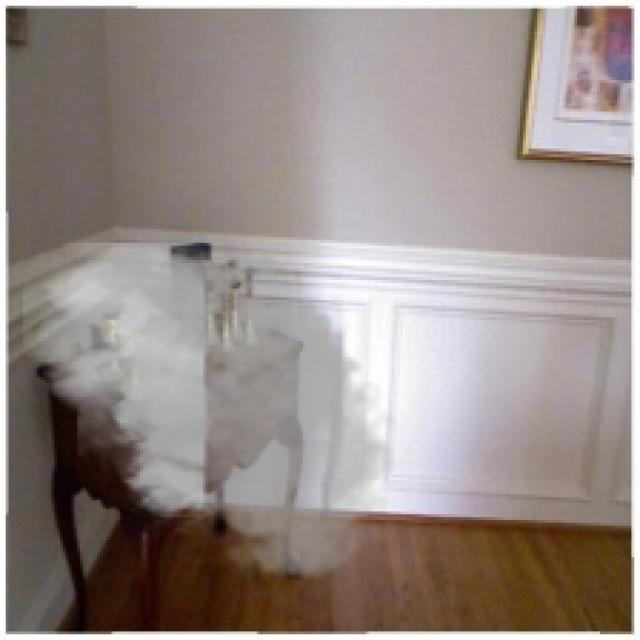smoke: (23, 228, 408, 586)
